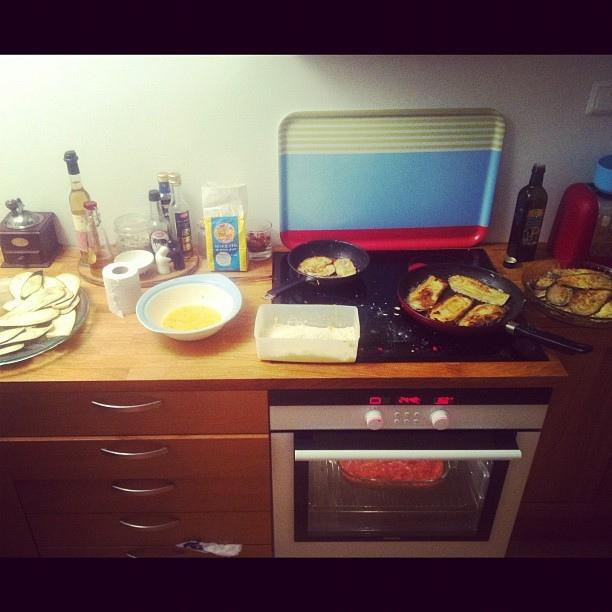eggplant: (448, 274, 510, 306), (425, 292, 476, 324), (406, 275, 449, 312), (0, 320, 54, 346), (13, 287, 64, 311), (0, 306, 60, 326), (456, 304, 507, 327), (569, 289, 612, 315), (52, 273, 81, 310), (46, 308, 78, 339), (297, 256, 335, 276), (546, 268, 612, 279), (20, 270, 44, 299), (544, 283, 574, 306), (43, 288, 74, 308), (333, 258, 356, 277), (60, 295, 80, 315), (590, 298, 611, 317), (532, 275, 556, 291), (1, 343, 25, 356)
